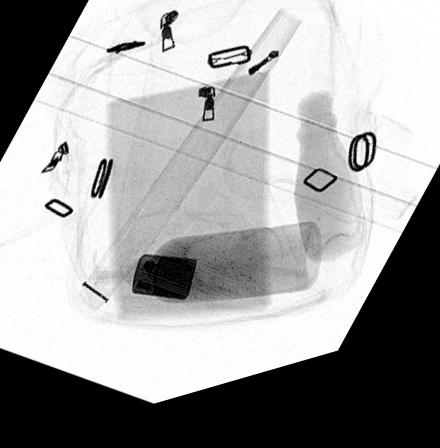Lighter: (130, 259, 197, 310)
